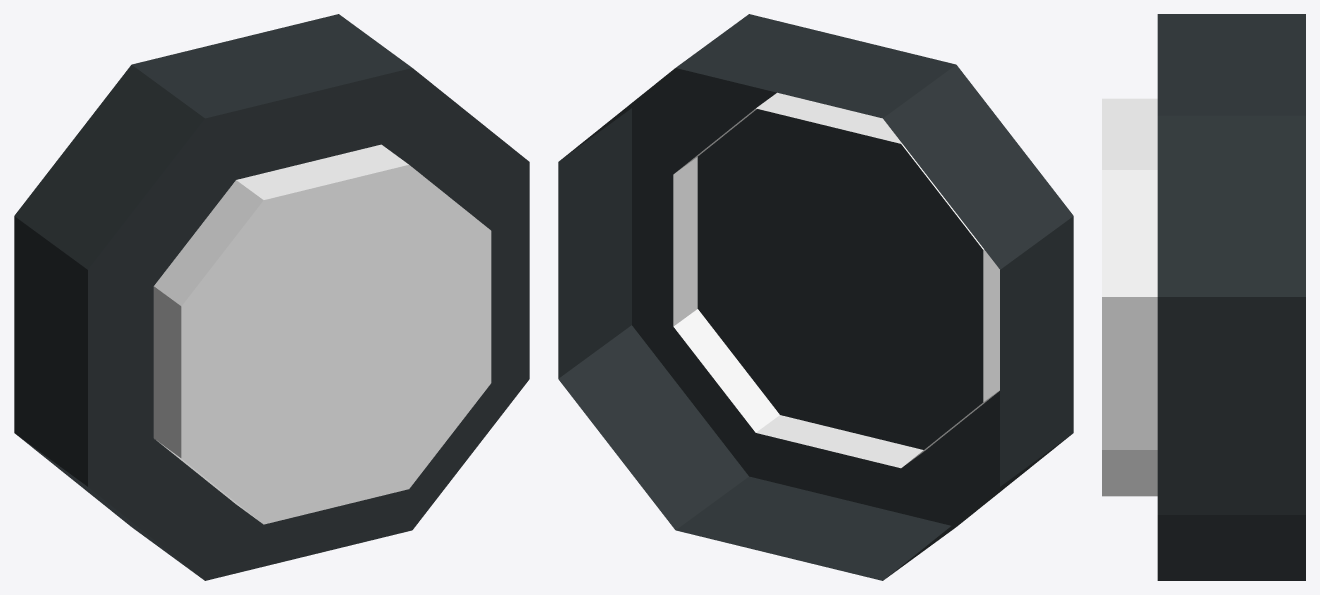
Rendered from Ceiling Light 01 Lit.FBX.
The picture shows the model from 3 angles, left to right: view 1: azimuth 30°, elevation 25°; view 2: azimuth 150°, elevation 25°; view 3: azimuth 270°, elevation 25°; orthographic projection.
Parts seen in each view (by area): view 1: Ceiling Light 01 Lit; view 2: Ceiling Light 01 Lit; view 3: Ceiling Light 01 Lit.
Boxes of the visible parts, box(x1,y1,x2,y2) form: Ceiling Light 01 Lit: box(14, 14, 529, 580); Ceiling Light 01 Lit: box(558, 14, 1073, 580); Ceiling Light 01 Lit: box(1102, 14, 1305, 580).
Bounding box in the file's own units: 31.05 × 31.05 × 12.33.
Materials: 1 (1 with a texture image).
